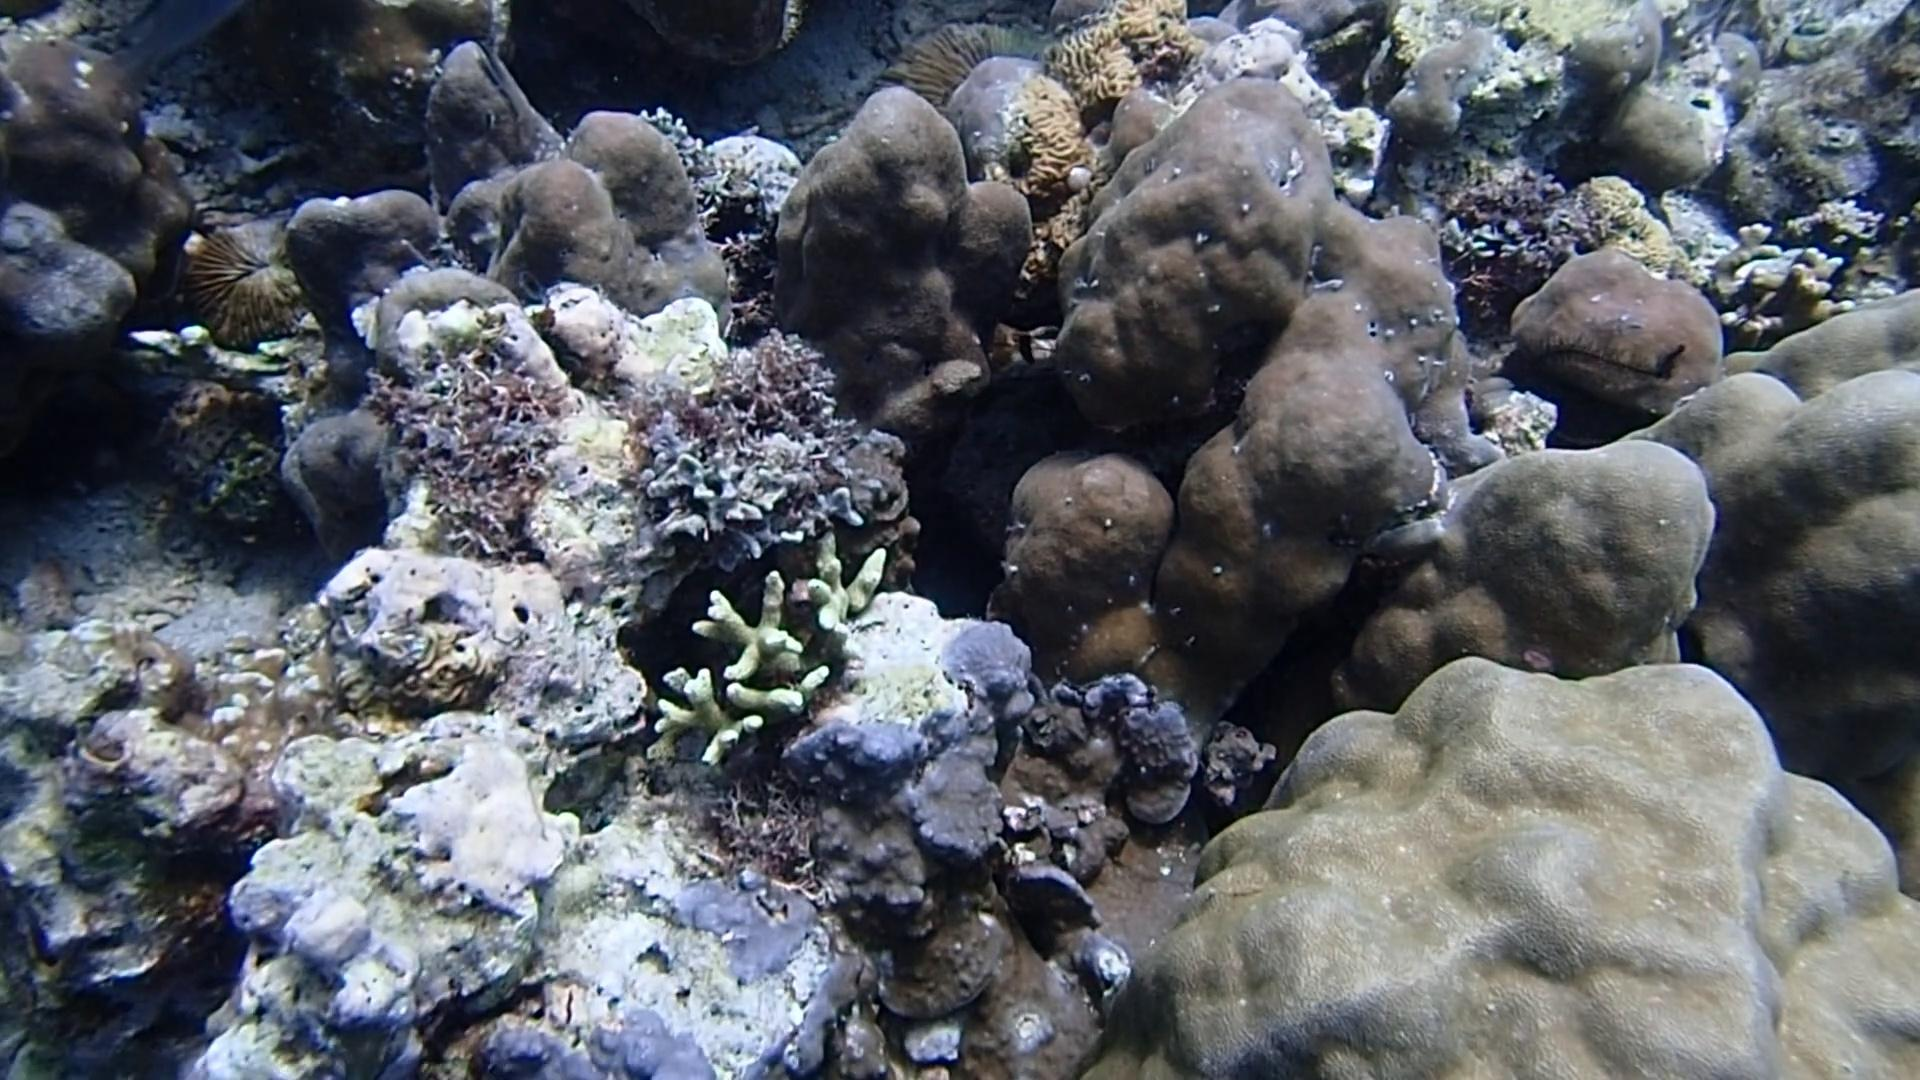Blue Fish Two: (94, 0, 241, 108)
